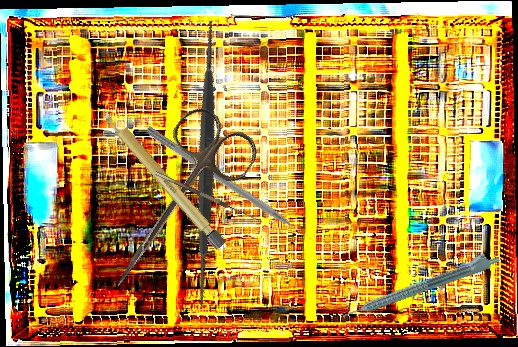Handpiece: (338, 247, 502, 322)
Hook Surgical: (154, 165, 264, 224)
Iris Scissors: (85, 100, 265, 311)
Pusher: (143, 124, 319, 249)
Scalpel Handle: (100, 107, 227, 251)
Spatula Surgical: (51, 9, 360, 319)
